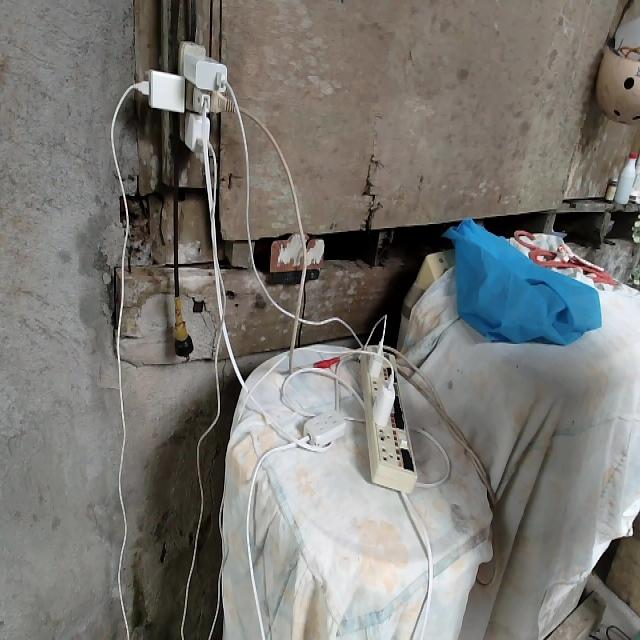-: (135, 33, 236, 155)
